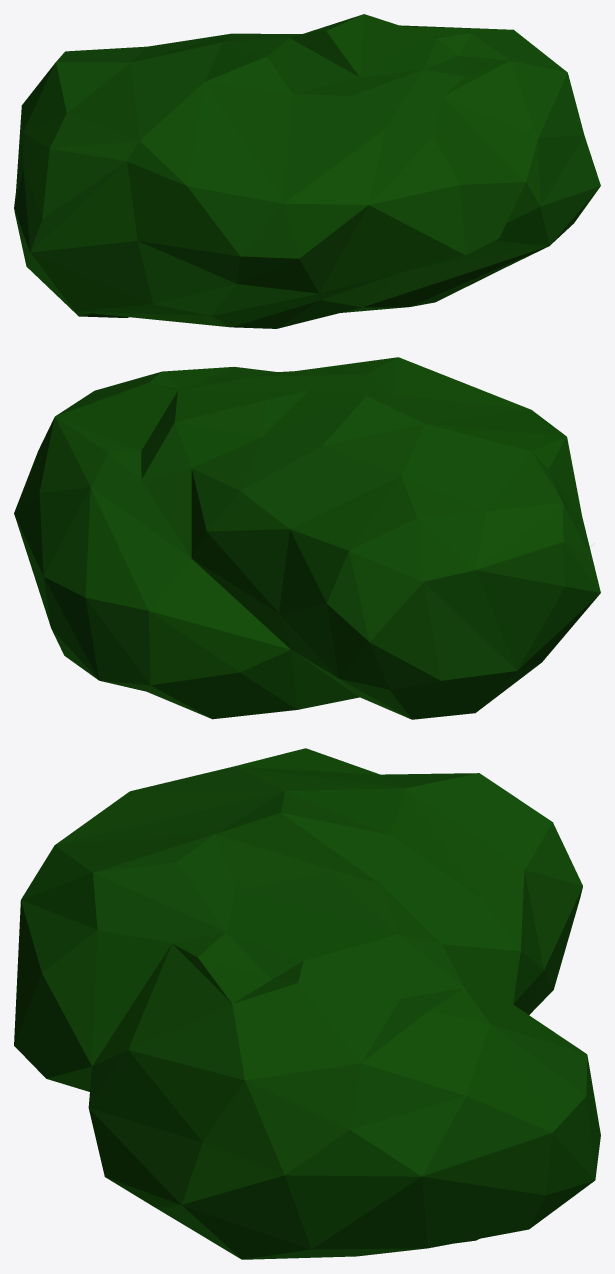
The model's file is põõsas2.fbx.
3 renders of one model, top to bottom at view 1: azimuth 30°, elevation 25°; view 2: azimuth 150°, elevation 25°; view 3: azimuth 270°, elevation 25°, orthographic. The views are drawn at different scales.
Visible parts, largest first — view 1: Icosphere.001; view 2: Icosphere.001; view 3: Icosphere.001.
Boxes of the visible parts, bbox=[...] form: Icosphere.001: bbox=[14, 14, 600, 328]; Icosphere.001: bbox=[14, 357, 600, 719]; Icosphere.001: bbox=[14, 748, 600, 1259].
Bounding box in the file's own units: 418 × 191 × 312.
